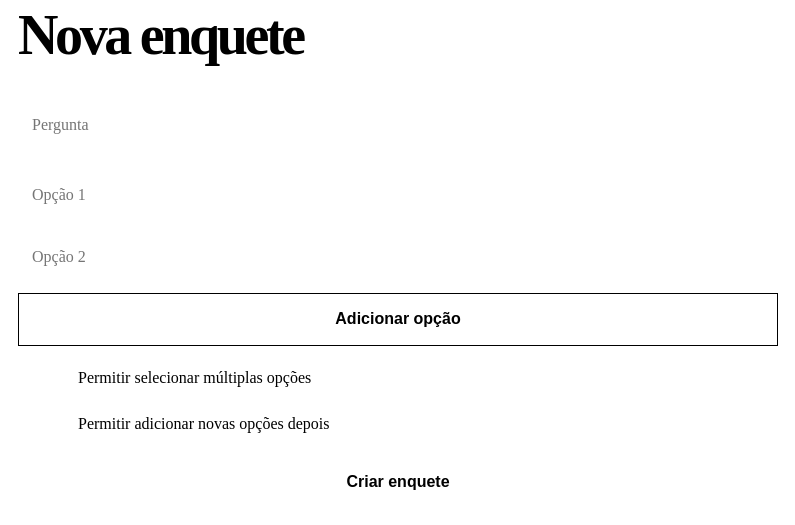
Scenario: poll presentation › requires the first option even when a later option is filled
The width and height of the screenshot is (795, 525).
Type "Qual jogo escolheremos?" into the field labelled "Pergunta".
click(398, 125); type("Qual jogo escolheremos?")  # box [18,100,778,151]
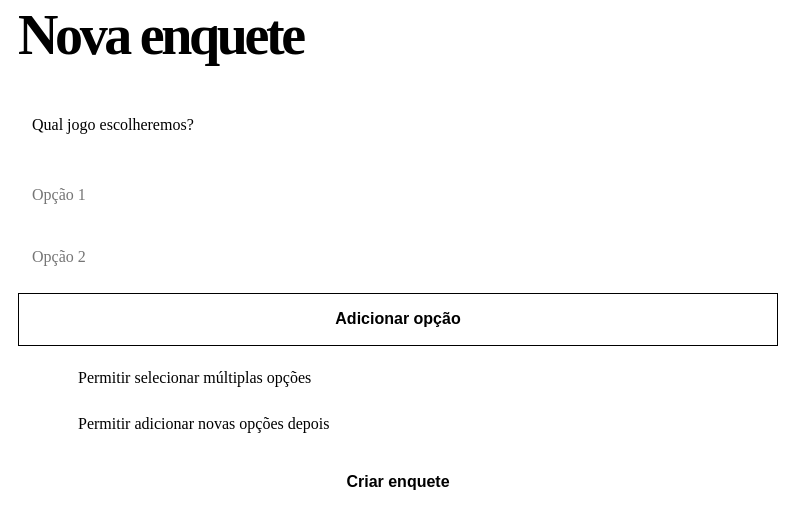
Type "Celeste" into the field labelled "Opção 2".
click(398, 257); type("Celeste")  # box [18,232,778,283]
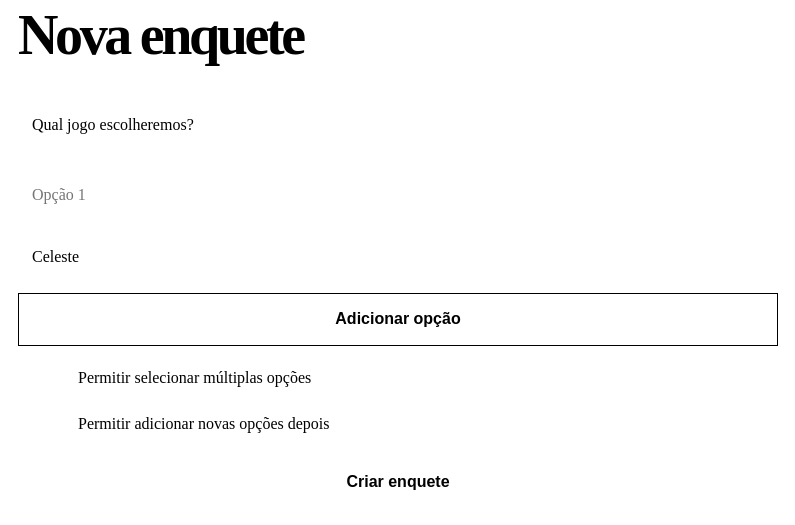
Click the button "Criar enquete".
click(398, 482)  # box [18,456,778,508]
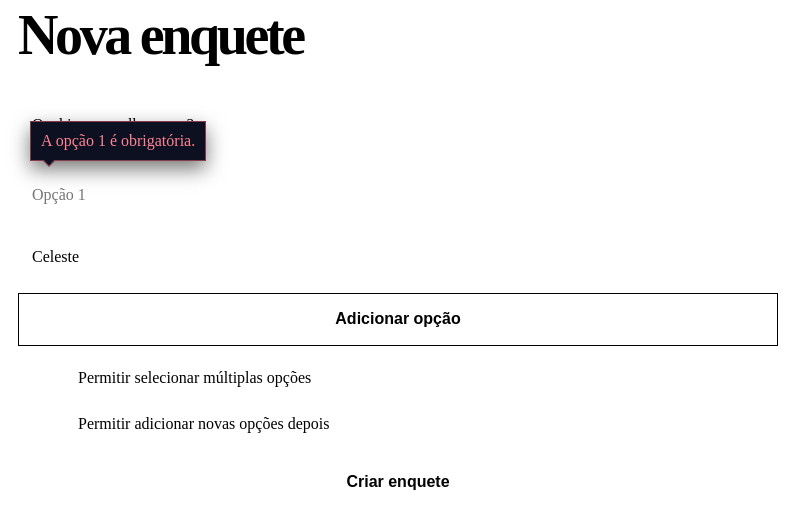
Expected: the text "A opção 1 é obrigatória." is shown, [30,121,206,161]
